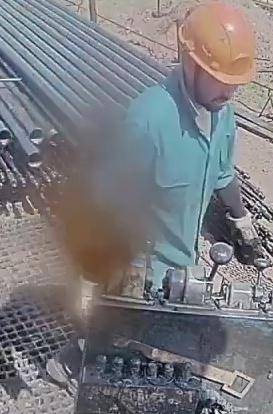gloves: (226, 203, 267, 264)
helmet: (176, 1, 256, 85)
vest: (107, 66, 238, 270)
